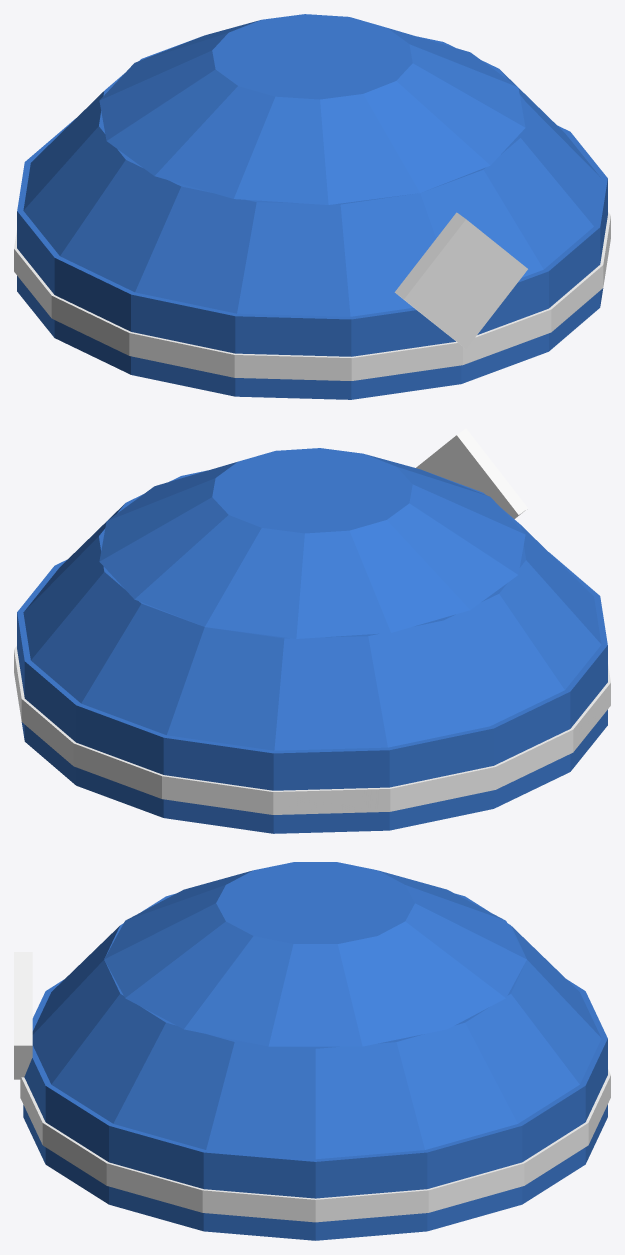
The model's file is CatCafe_Accessory_SwimCap.glb.
3 renders of one model, top to bottom at view 1: azimuth 30°, elevation 25°; view 2: azimuth 150°, elevation 25°; view 3: azimuth 270°, elevation 25°, orthographic.
Visible parts, largest first — view 1: CatCafe_Accessory_SwimCap; view 2: CatCafe_Accessory_SwimCap; view 3: CatCafe_Accessory_SwimCap.
Part boxes in pixels (left/top/right/bottom): CatCafe_Accessory_SwimCap: left=14, top=14, right=610, bottom=399; CatCafe_Accessory_SwimCap: left=14, top=428, right=610, bottom=833; CatCafe_Accessory_SwimCap: left=14, top=862, right=610, bottom=1240.
Size of the model in its own units: 0.95 by 0.38 by 0.96.
1 material, 1 textured.
